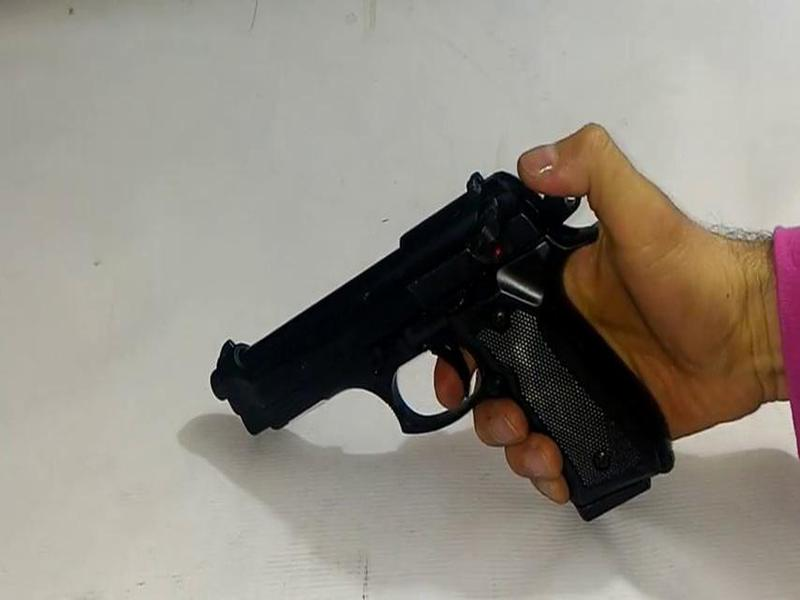Pistola: (177, 168, 721, 550)
